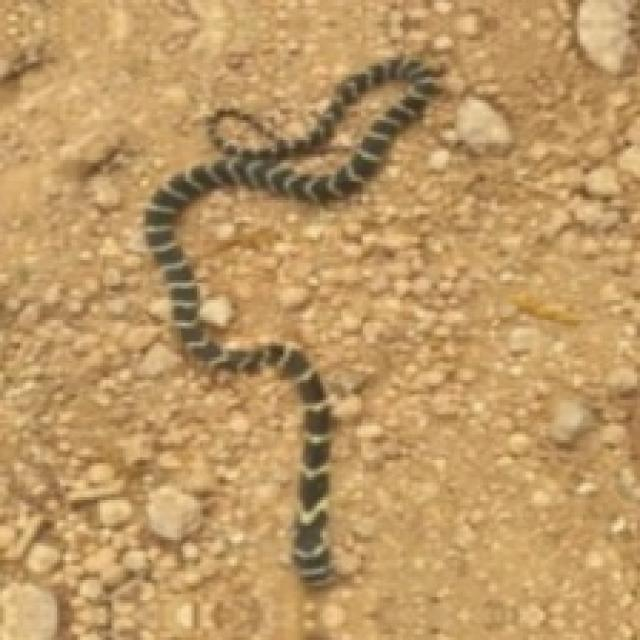king cobra: (146, 57, 440, 583)
